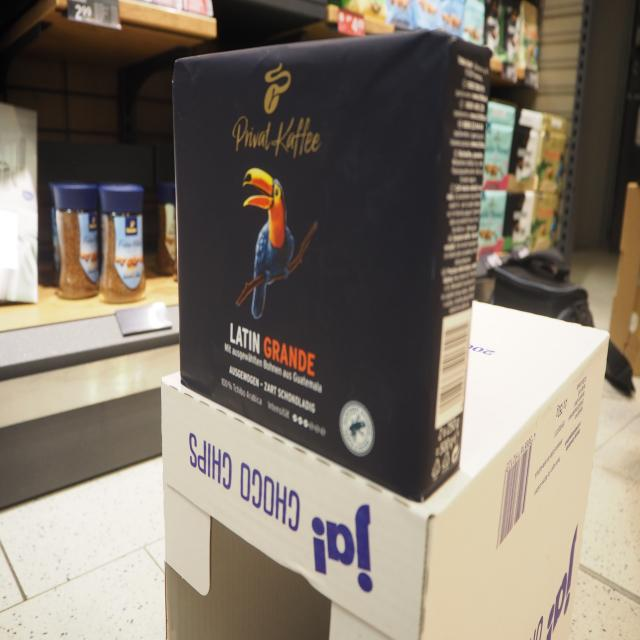LG Gemahlen: (170, 24, 448, 511)
